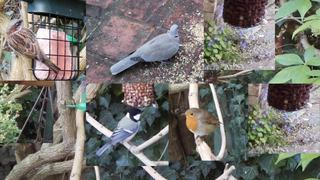collared dove: (110, 24, 180, 75)
great tit: (96, 108, 145, 157)
robin: (181, 108, 224, 146)
sparrow: (6, 19, 62, 75)
